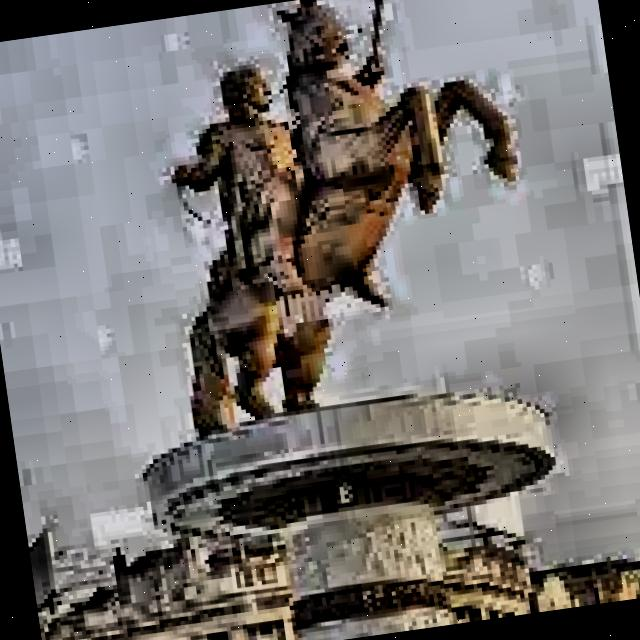alexander the great monument: (69, 0, 582, 640)
